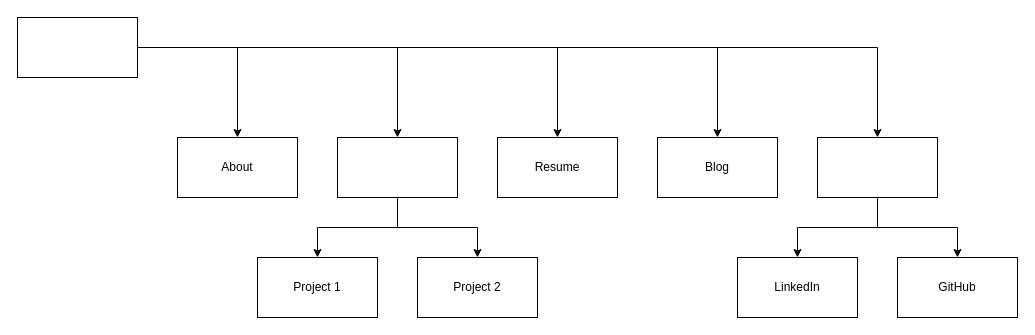
This 1035x335 diagram has some shape labels left out. The shapes that lost their labels are listed below. From the top down, each one's centre as x and y in pixels, then its label:
At [77,47]: "Home".
At [397,167]: "Portfolio".
At [877,167]: "Contact".
